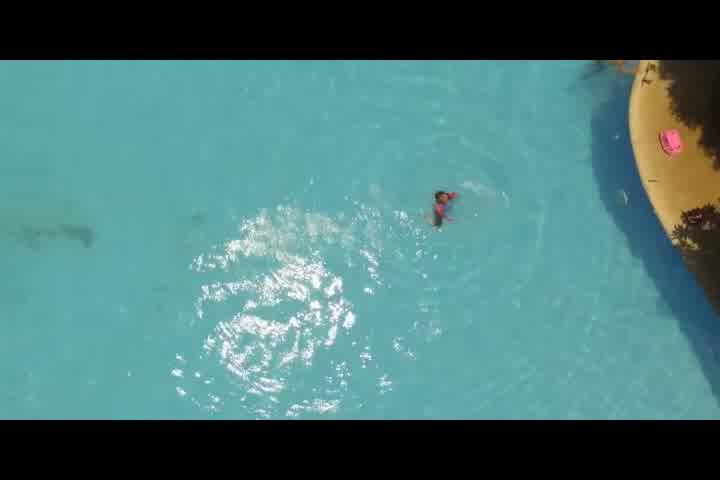swimmer: (428, 190, 461, 230)
